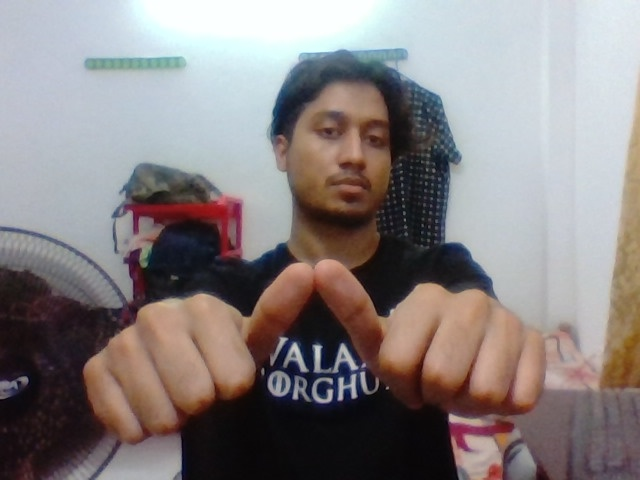A: (61, 233, 567, 429)
